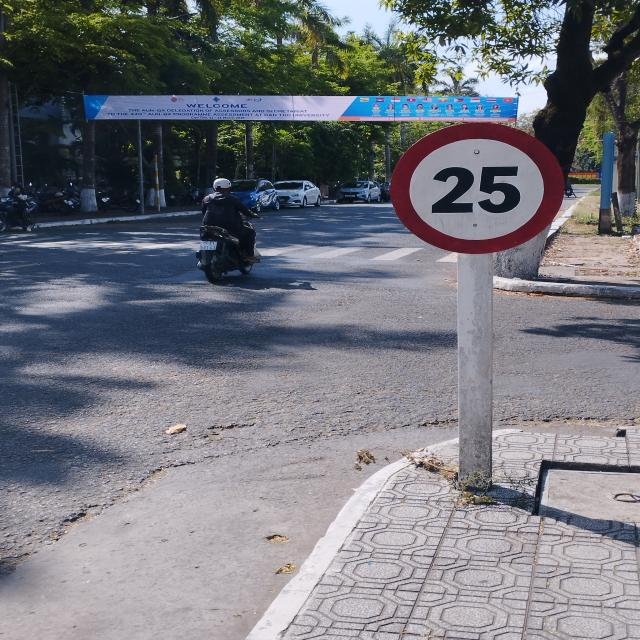Tre_Em: (390, 122, 565, 252)
